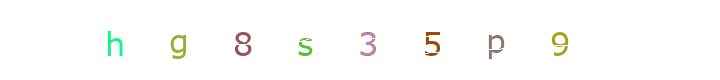3: (320, 0, 400, 80)
5: (321, 0, 401, 80)
8: (275, 0, 355, 80)
9: (388, 0, 468, 80)
G: (265, 0, 345, 80)
H: (73, 0, 153, 80)
P: (329, 0, 409, 80)
S: (319, 0, 399, 80)
